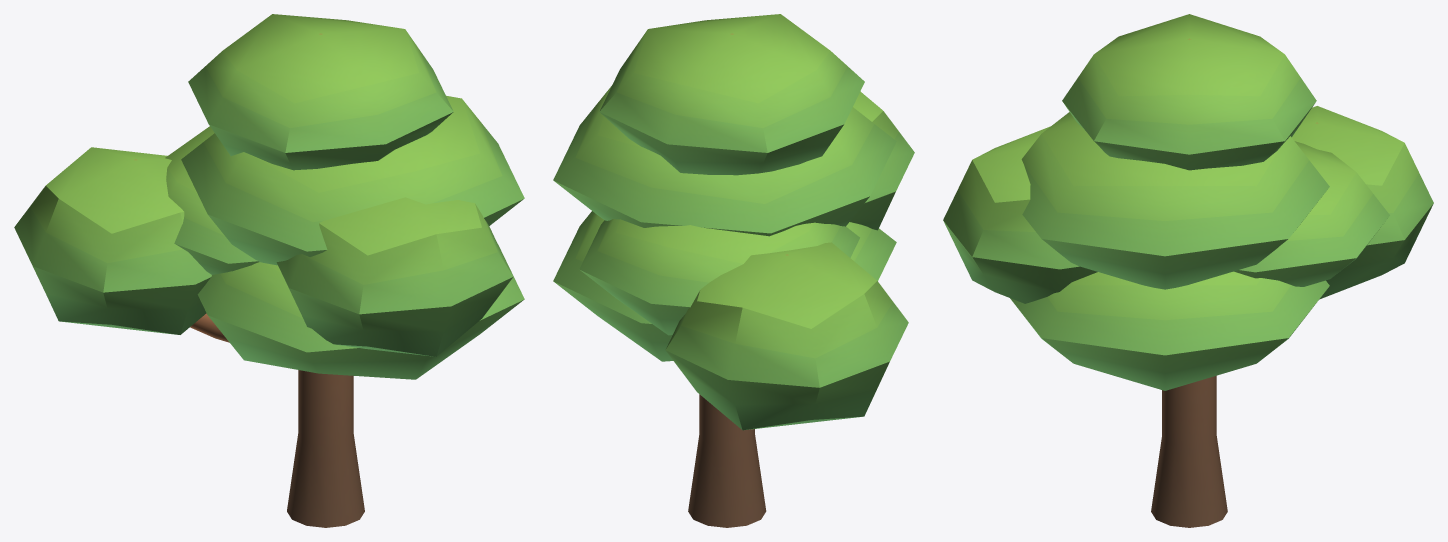
Rendered from Tree2.fbx.
3 views of the same model, side by side, from view 1: azimuth 30°, elevation 25°; view 2: azimuth 150°, elevation 25°; view 3: azimuth 270°, elevation 25° (orthographic).
Parts seen in each view (by area): view 1: Tree2; view 2: Tree2; view 3: Tree2.
Boxes of the visible parts, x1=… form: Tree2: x1=14, y1=14, x2=524, y2=527; Tree2: x1=553, y1=14, x2=914, y2=527; Tree2: x1=943, y1=14, x2=1433, y2=527.
Bounding box in the file's own units: 134 × 158 × 149.
